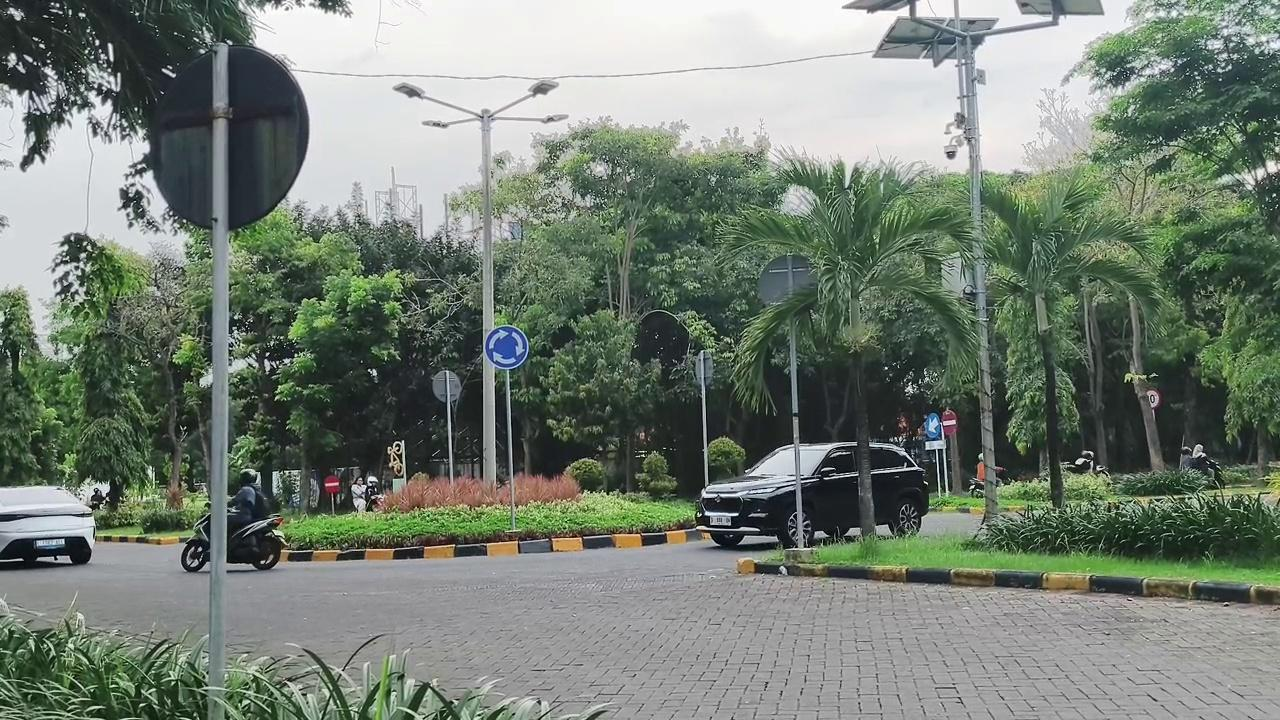Helmet: (228, 470, 265, 536)
Motor: (227, 515, 284, 569), (1062, 450, 1109, 476), (969, 477, 985, 497)
